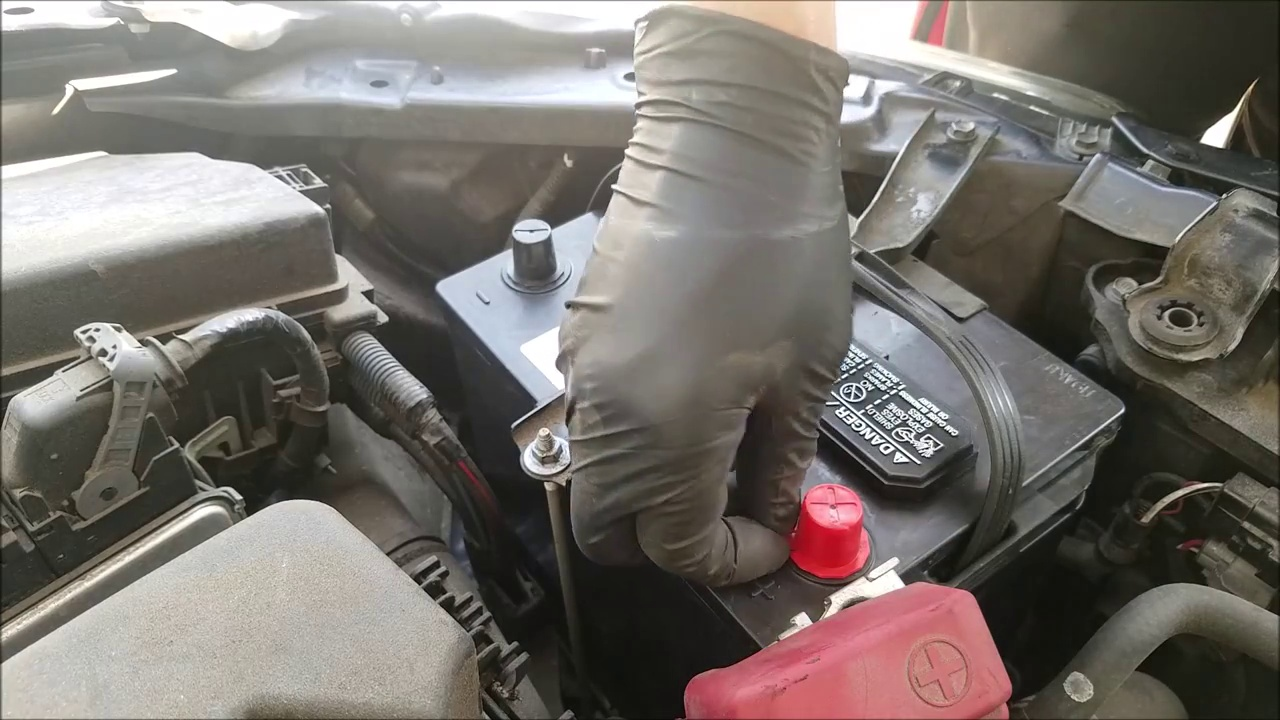battery: (454, 181, 1109, 650)
pos_disconnected: (766, 475, 974, 720)
pos_touched: (613, 355, 989, 720)
